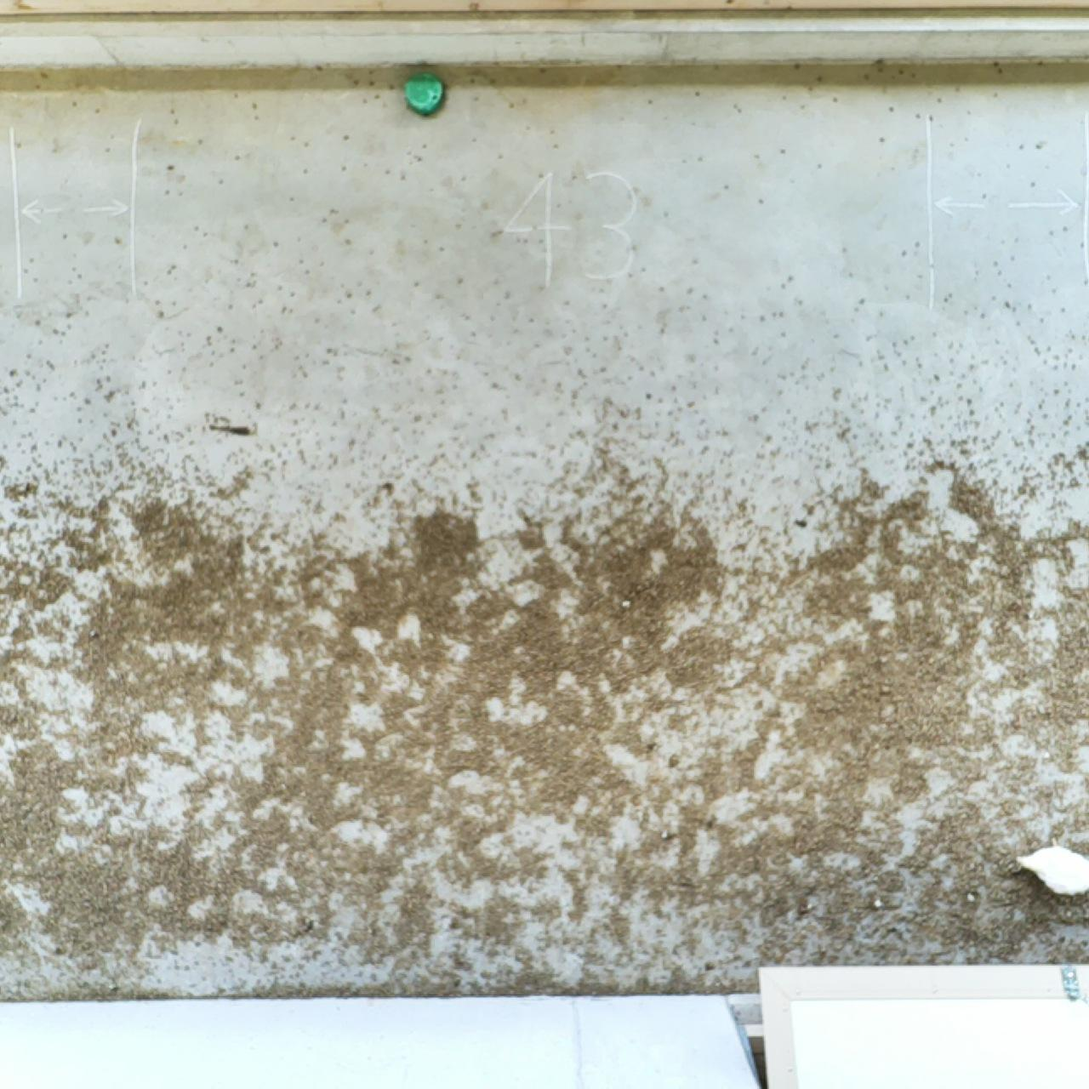chicken: (1013, 833, 1089, 898)
